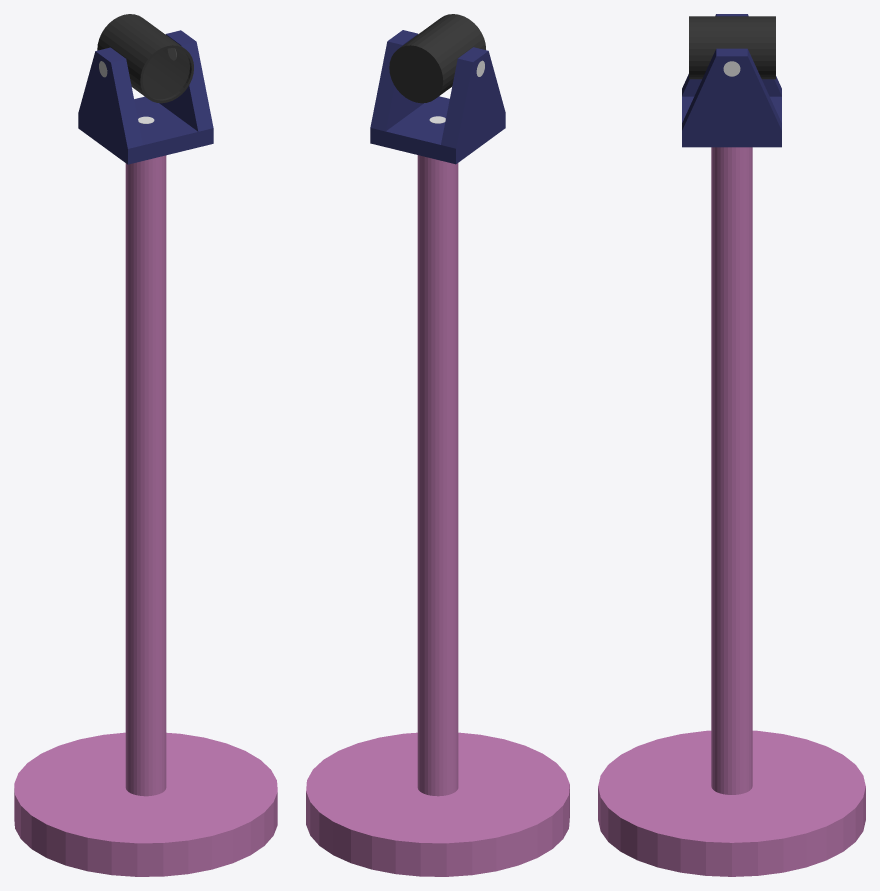
File: theodolite.fbx
The picture shows the model from 3 angles, left to right: view 1: azimuth 30°, elevation 25°; view 2: azimuth 150°, elevation 25°; view 3: azimuth 270°, elevation 25°; orthographic projection.
Visible parts, largest first — view 1: Pillar, Theodolite, CameraBody; view 2: Pillar, Theodolite, CameraBody; view 3: Pillar, Theodolite, CameraBody.
Part boxes in pixels (left/top/right/bottom): Pillar: left=14, top=155, right=277, bottom=876; Theodolite: left=78, top=30, right=213, bottom=164; CameraBody: left=97, top=14, right=193, bottom=103; Pillar: left=306, top=155, right=569, bottom=876; Theodolite: left=370, top=30, right=505, bottom=164; CameraBody: left=389, top=14, right=485, bottom=103; Pillar: left=598, top=147, right=865, bottom=876; Theodolite: left=682, top=14, right=781, bottom=147; CameraBody: left=689, top=16, right=775, bottom=79.
Bounding box in the file's own units: 0.5339 × 1.76 × 0.5339.
